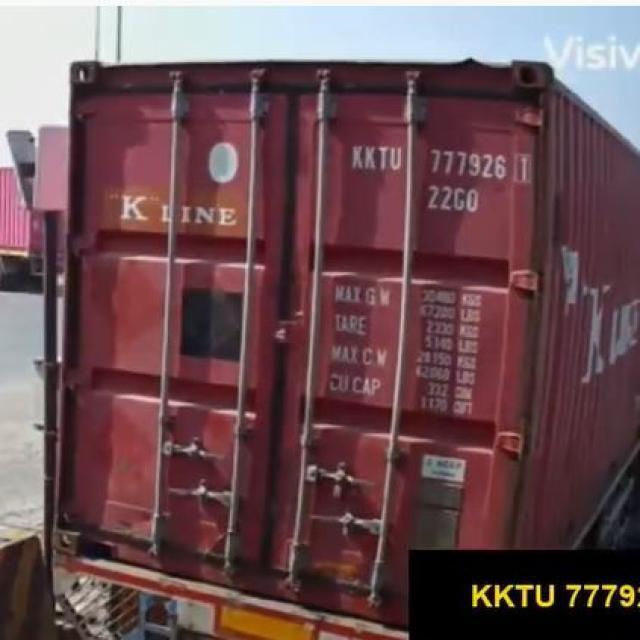ISO: (427, 187, 485, 214)
container_number: (348, 147, 526, 181)
